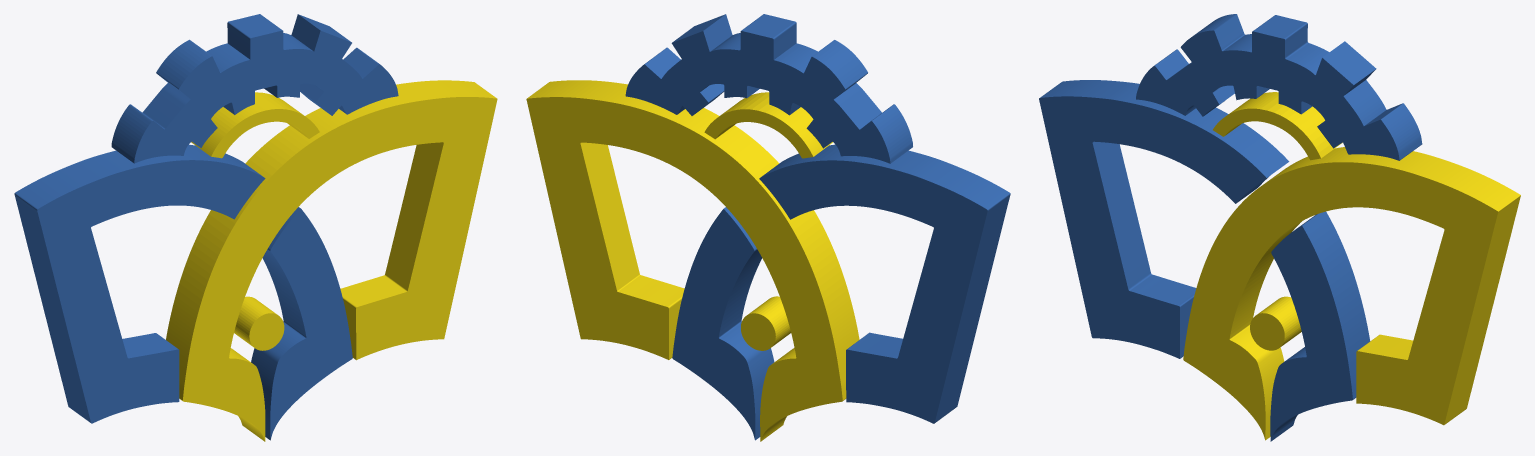
Rendered from school-latest.glb.
The picture shows the model from 3 angles, left to right: view 1: azimuth 30°, elevation 25°; view 2: azimuth 150°, elevation 25°; view 3: azimuth 330°, elevation 25°; orthographic projection.
Parts seen in each view (by area): view 1: Curve, Curve.001, Curve.002, Curve.003, Curve.004, Curve.005; view 2: Curve, Curve.001, Curve.002, Curve.003, Curve.004, Curve.005; view 3: Curve, Curve.001, Curve.002, Curve.003, Curve.004, Curve.005.
Boxes of the visible parts, box(x1,y1,x2,y2) form: Curve: box(166, 80, 497, 441); Curve.001: box(14, 144, 265, 423); Curve.002: box(111, 14, 398, 163); Curve.003: box(251, 207, 352, 440); Curve.004: box(191, 92, 319, 158); Curve.005: box(234, 296, 284, 350); Curve: box(526, 80, 859, 441); Curve.001: box(759, 144, 1010, 423); Curve.002: box(625, 14, 912, 163); Curve.003: box(672, 207, 774, 440); Curve.004: box(704, 92, 832, 158); Curve.005: box(741, 296, 790, 350); Curve: box(1183, 147, 1520, 440); Curve.001: box(1039, 80, 1289, 358); Curve.002: box(1136, 14, 1422, 160); Curve.003: box(1270, 211, 1370, 441); Curve.004: box(1213, 92, 1342, 160); Curve.005: box(1250, 296, 1301, 350).
Size of the model in its own units: 0.967 by 0.8162 by 0.086.
